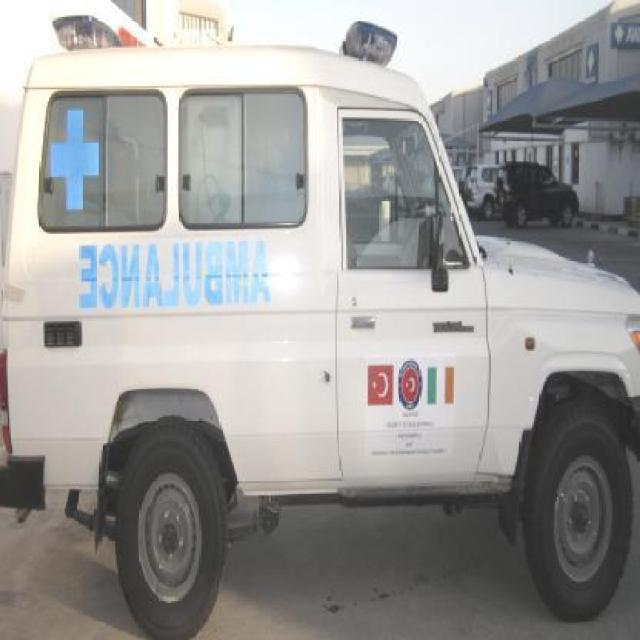emergency: (0, 9, 638, 637)
